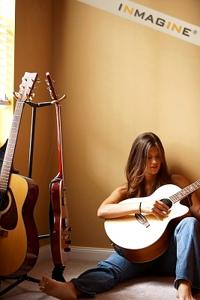person: (38, 130, 200, 300)
